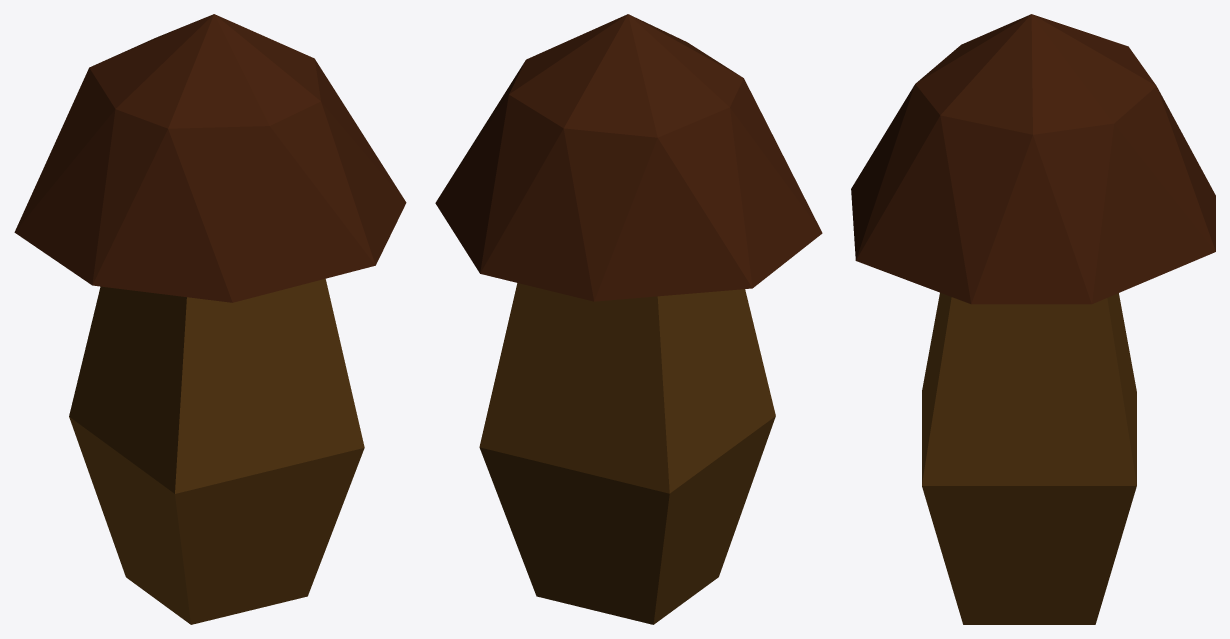
File: Mushroom_Small_2.fbx
3 renders of one model, left to right at view 1: azimuth 30°, elevation 25°; view 2: azimuth 150°, elevation 25°; view 3: azimuth 270°, elevation 25°, orthographic.
Parts seen in each view (by area): view 1: Mushroom_Small_2; view 2: Mushroom_Small_2; view 3: Mushroom_Small_2.
Boxes of the visible parts, <box> form: Mushroom_Small_2: <box>14,14,406,624</box>; Mushroom_Small_2: <box>435,14,822,624</box>; Mushroom_Small_2: <box>851,14,1215,624</box>.
Size of the model in its own units: 34.3 by 57.81 by 32.88.
